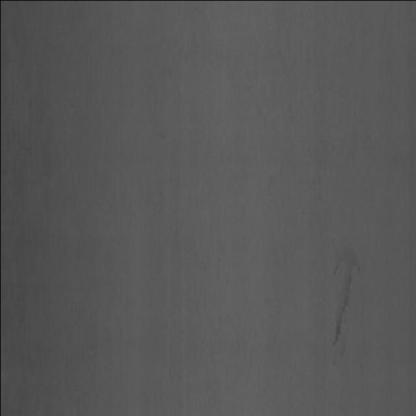water_spot: (315, 241, 362, 358)
